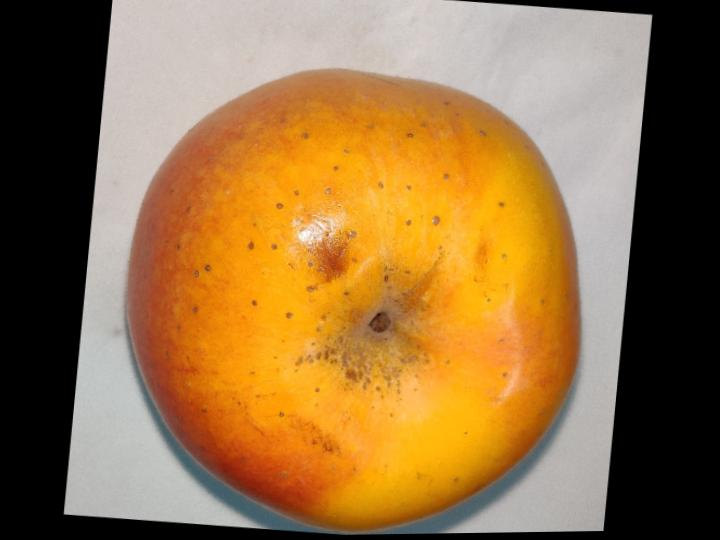apple: (127, 68, 580, 531)
bruise_discoloration: (305, 216, 349, 281)
